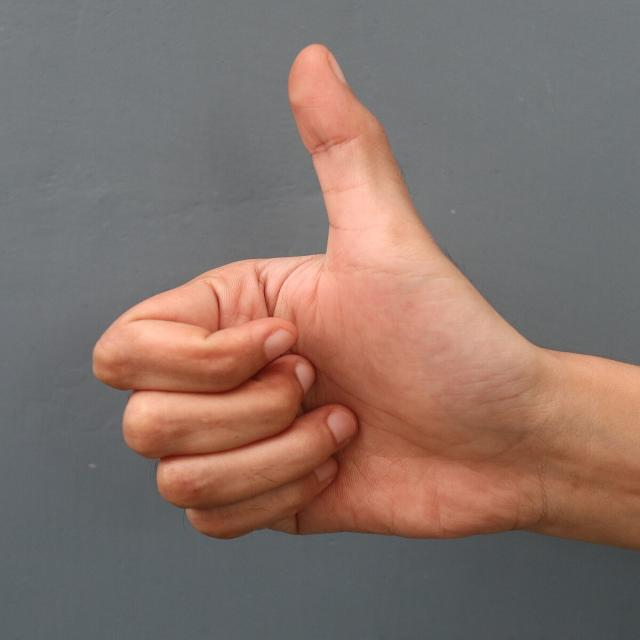hand thumb up: (94, 44, 540, 545)
